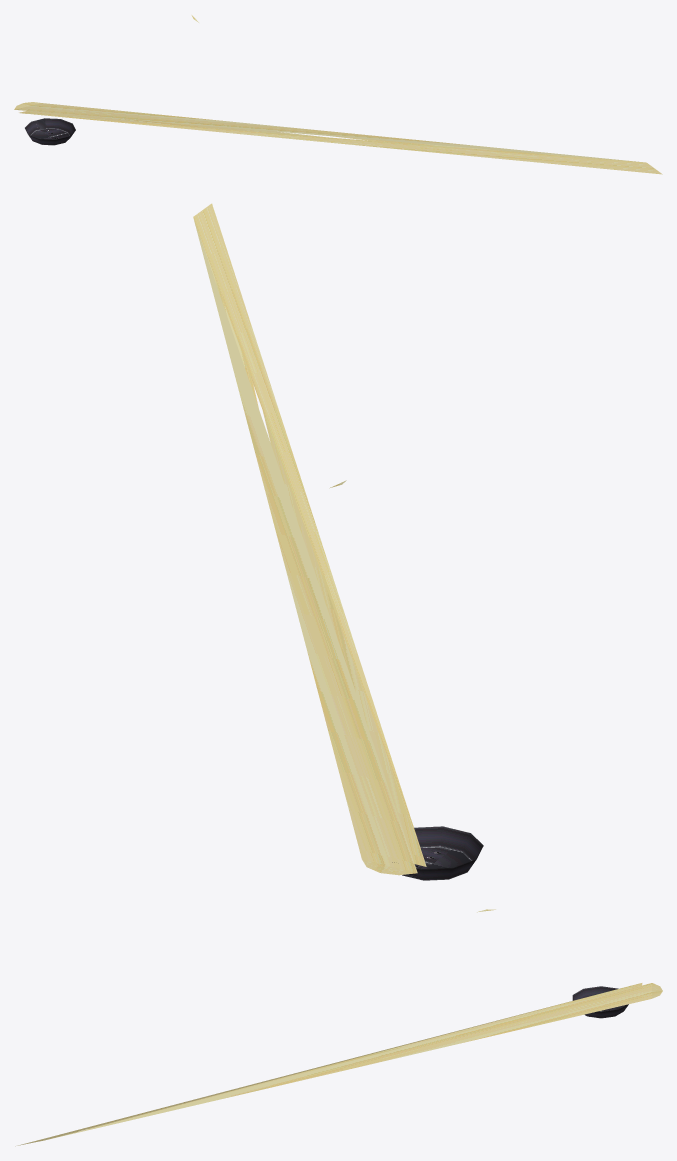
The picture shows the model from 3 angles, top to bottom: view 1: azimuth 30°, elevation 25°; view 2: azimuth 150°, elevation 25°; view 3: azimuth 270°, elevation 25°; orthographic projection. The views are drawn at different scales.
Parts seen in each view (by area): view 1: 1058item529; view 2: 1058item529; view 3: 1058item529.
Boxes of the visible parts, box(x1,y1,x2,y2) form: 1058item529: box(14, 15, 662, 174); 1058item529: box(193, 203, 483, 880); 1058item529: box(15, 909, 662, 1146).
Size of what is drawn, in the model's own units: 8.68 by 2.85 by 10.88.
Materials: 2 (2 with a texture image).
